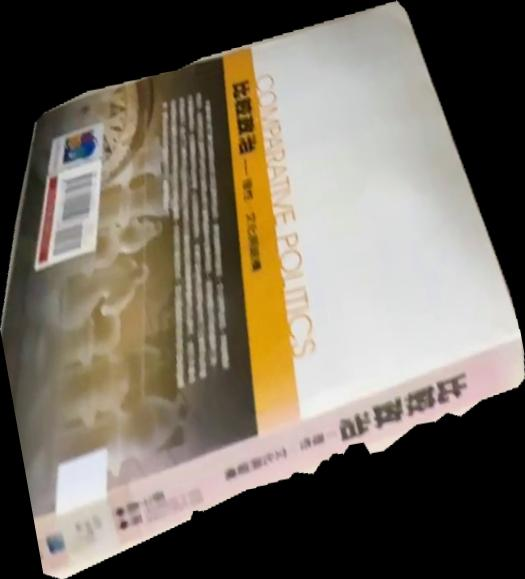flat: (1, 1, 525, 579)
